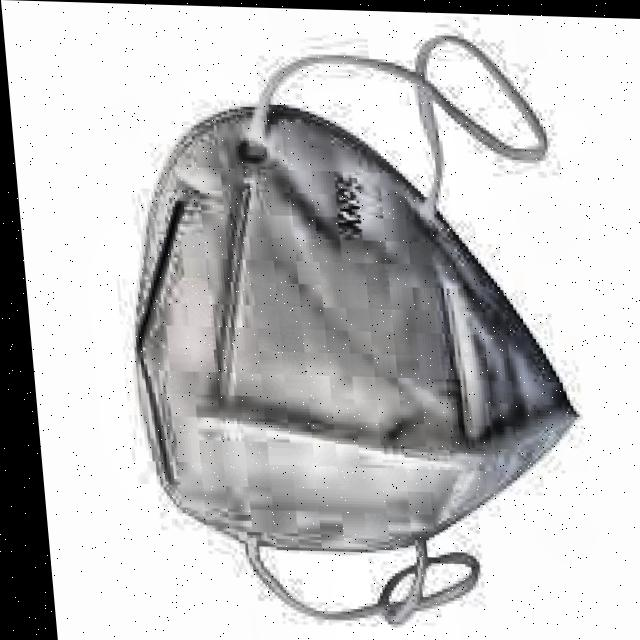trash: (106, 99, 595, 567)
